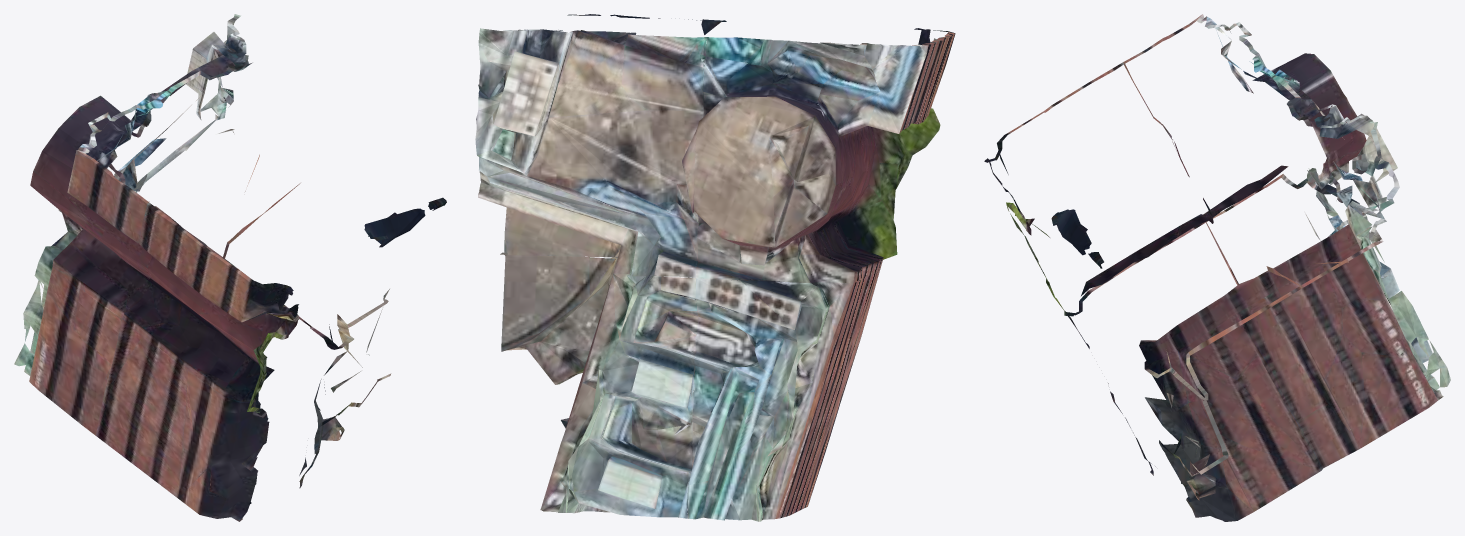
The model's file is AJVsH2y4Bj7-SwzFOTuqYNIxxIS17LM6i9m4-7V-RHsWi_YLJXOT8KtQXYMTJm8hpppBsk5_vIn1F55KgucHEdwblzhMnwos3-smvnd8uOyeP8B7yRMibSuhVupNq5614bZk7Fv83Wcp_SIfQoz52mvRlcqo.glb.
3 views of the same model, side by side, from view 1: azimuth 30°, elevation 25°; view 2: azimuth 150°, elevation 25°; view 3: azimuth 270°, elevation 25° (orthographic). The views are drawn at different scales.
Size of the model in its own units: 39.77 by 47.68 by 49.42.
Materials: 1 (1 with a texture image).
